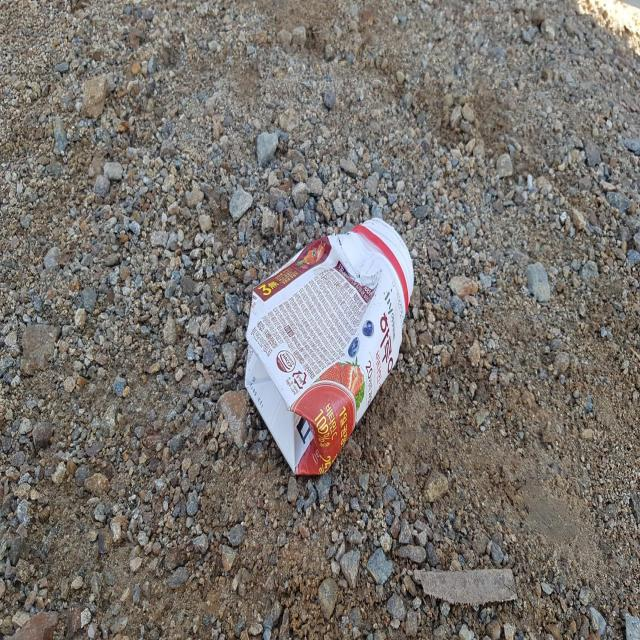paperpack: (245, 217, 414, 475)
